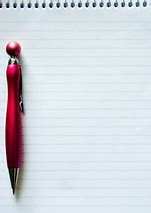pen: (5, 40, 30, 195)
